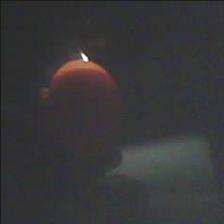fertile: (46, 58, 122, 154)
